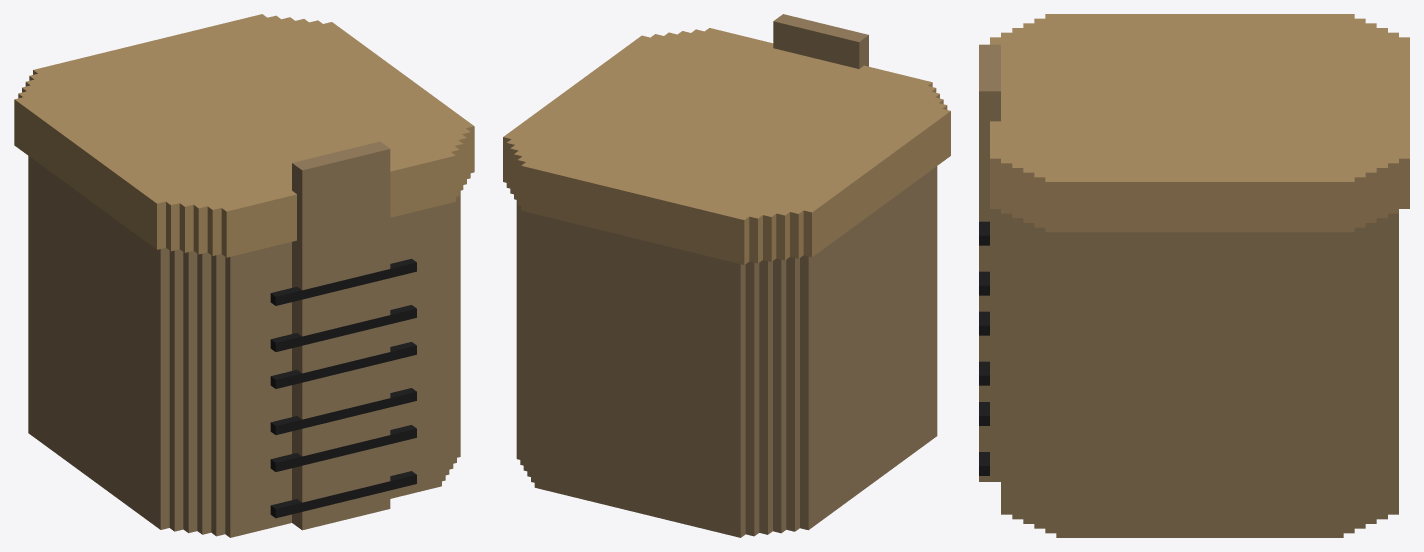
The model's file is boots_combat_worn_shaft.glb.
The picture shows the model from 3 angles, left to right: view 1: azimuth 30°, elevation 25°; view 2: azimuth 150°, elevation 25°; view 3: azimuth 270°, elevation 25°; orthographic projection. The views are drawn at different scales.
Visible parts, largest first — view 1: boots_combat_worn_shaft:compound; view 2: boots_combat_worn_shaft:compound; view 3: boots_combat_worn_shaft:compound.
Boxes of the visible parts, bbox=[...] form: boots_combat_worn_shaft:compound: bbox=[14, 14, 474, 537]; boots_combat_worn_shaft:compound: bbox=[503, 14, 950, 537]; boots_combat_worn_shaft:compound: bbox=[979, 14, 1409, 537].
Size of the model in its own units: 0.144 by 0.156 by 0.156.
